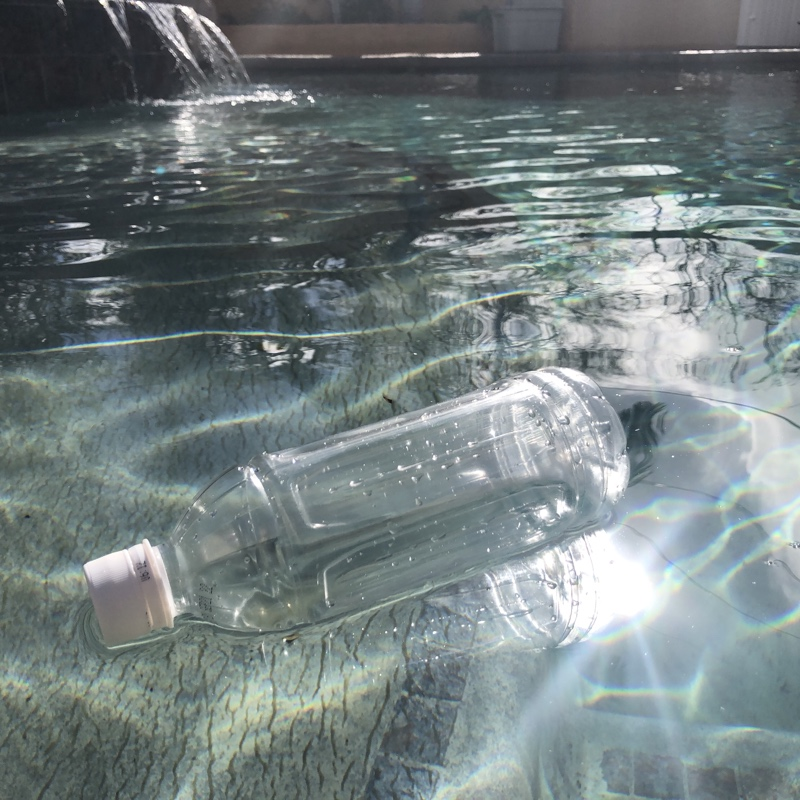Plastic Bottle: (78, 360, 641, 657)
